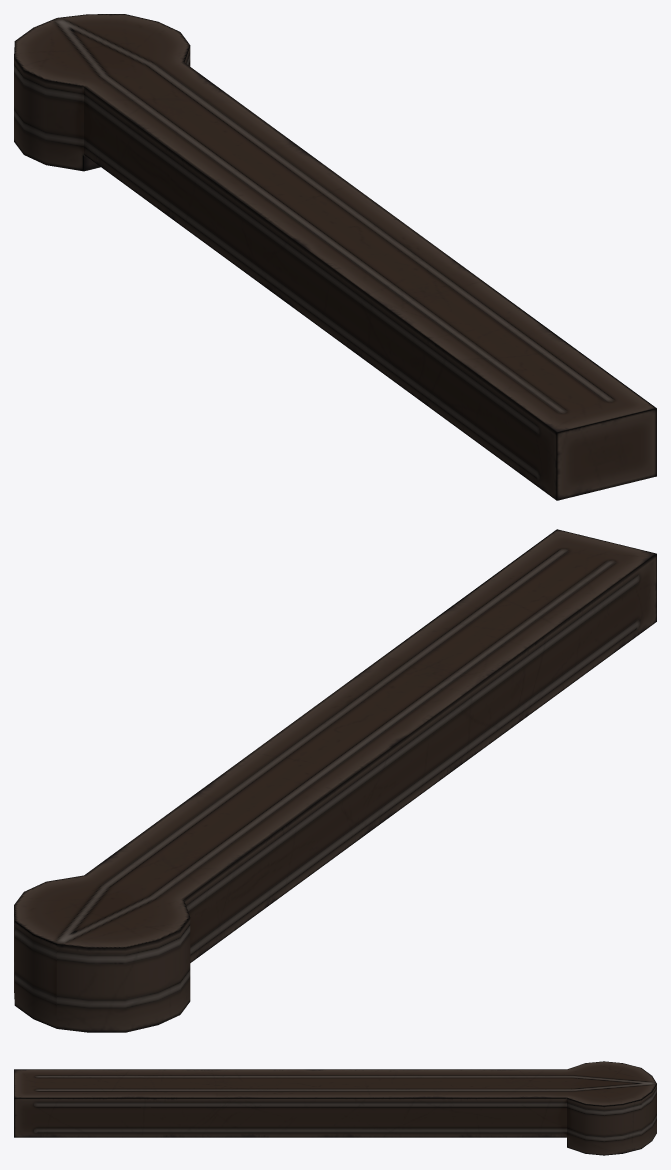
File: P90_Mag.fbx
The picture shows the model from 3 angles, top to bottom: view 1: azimuth 30°, elevation 25°; view 2: azimuth 150°, elevation 25°; view 3: azimuth 270°, elevation 25°; orthographic projection. The views are drawn at different scales.
Visible parts, largest first — view 1: P90_Mag; view 2: P90_Mag; view 3: P90_Mag.
Part boxes in pixels (box(x1,y1,x2,y2)): P90_Mag: box(14, 14, 656, 500); P90_Mag: box(14, 529, 656, 1032); P90_Mag: box(14, 1061, 656, 1155).
Size of the model in its own units: 46.06 by 23.87 by 280.
